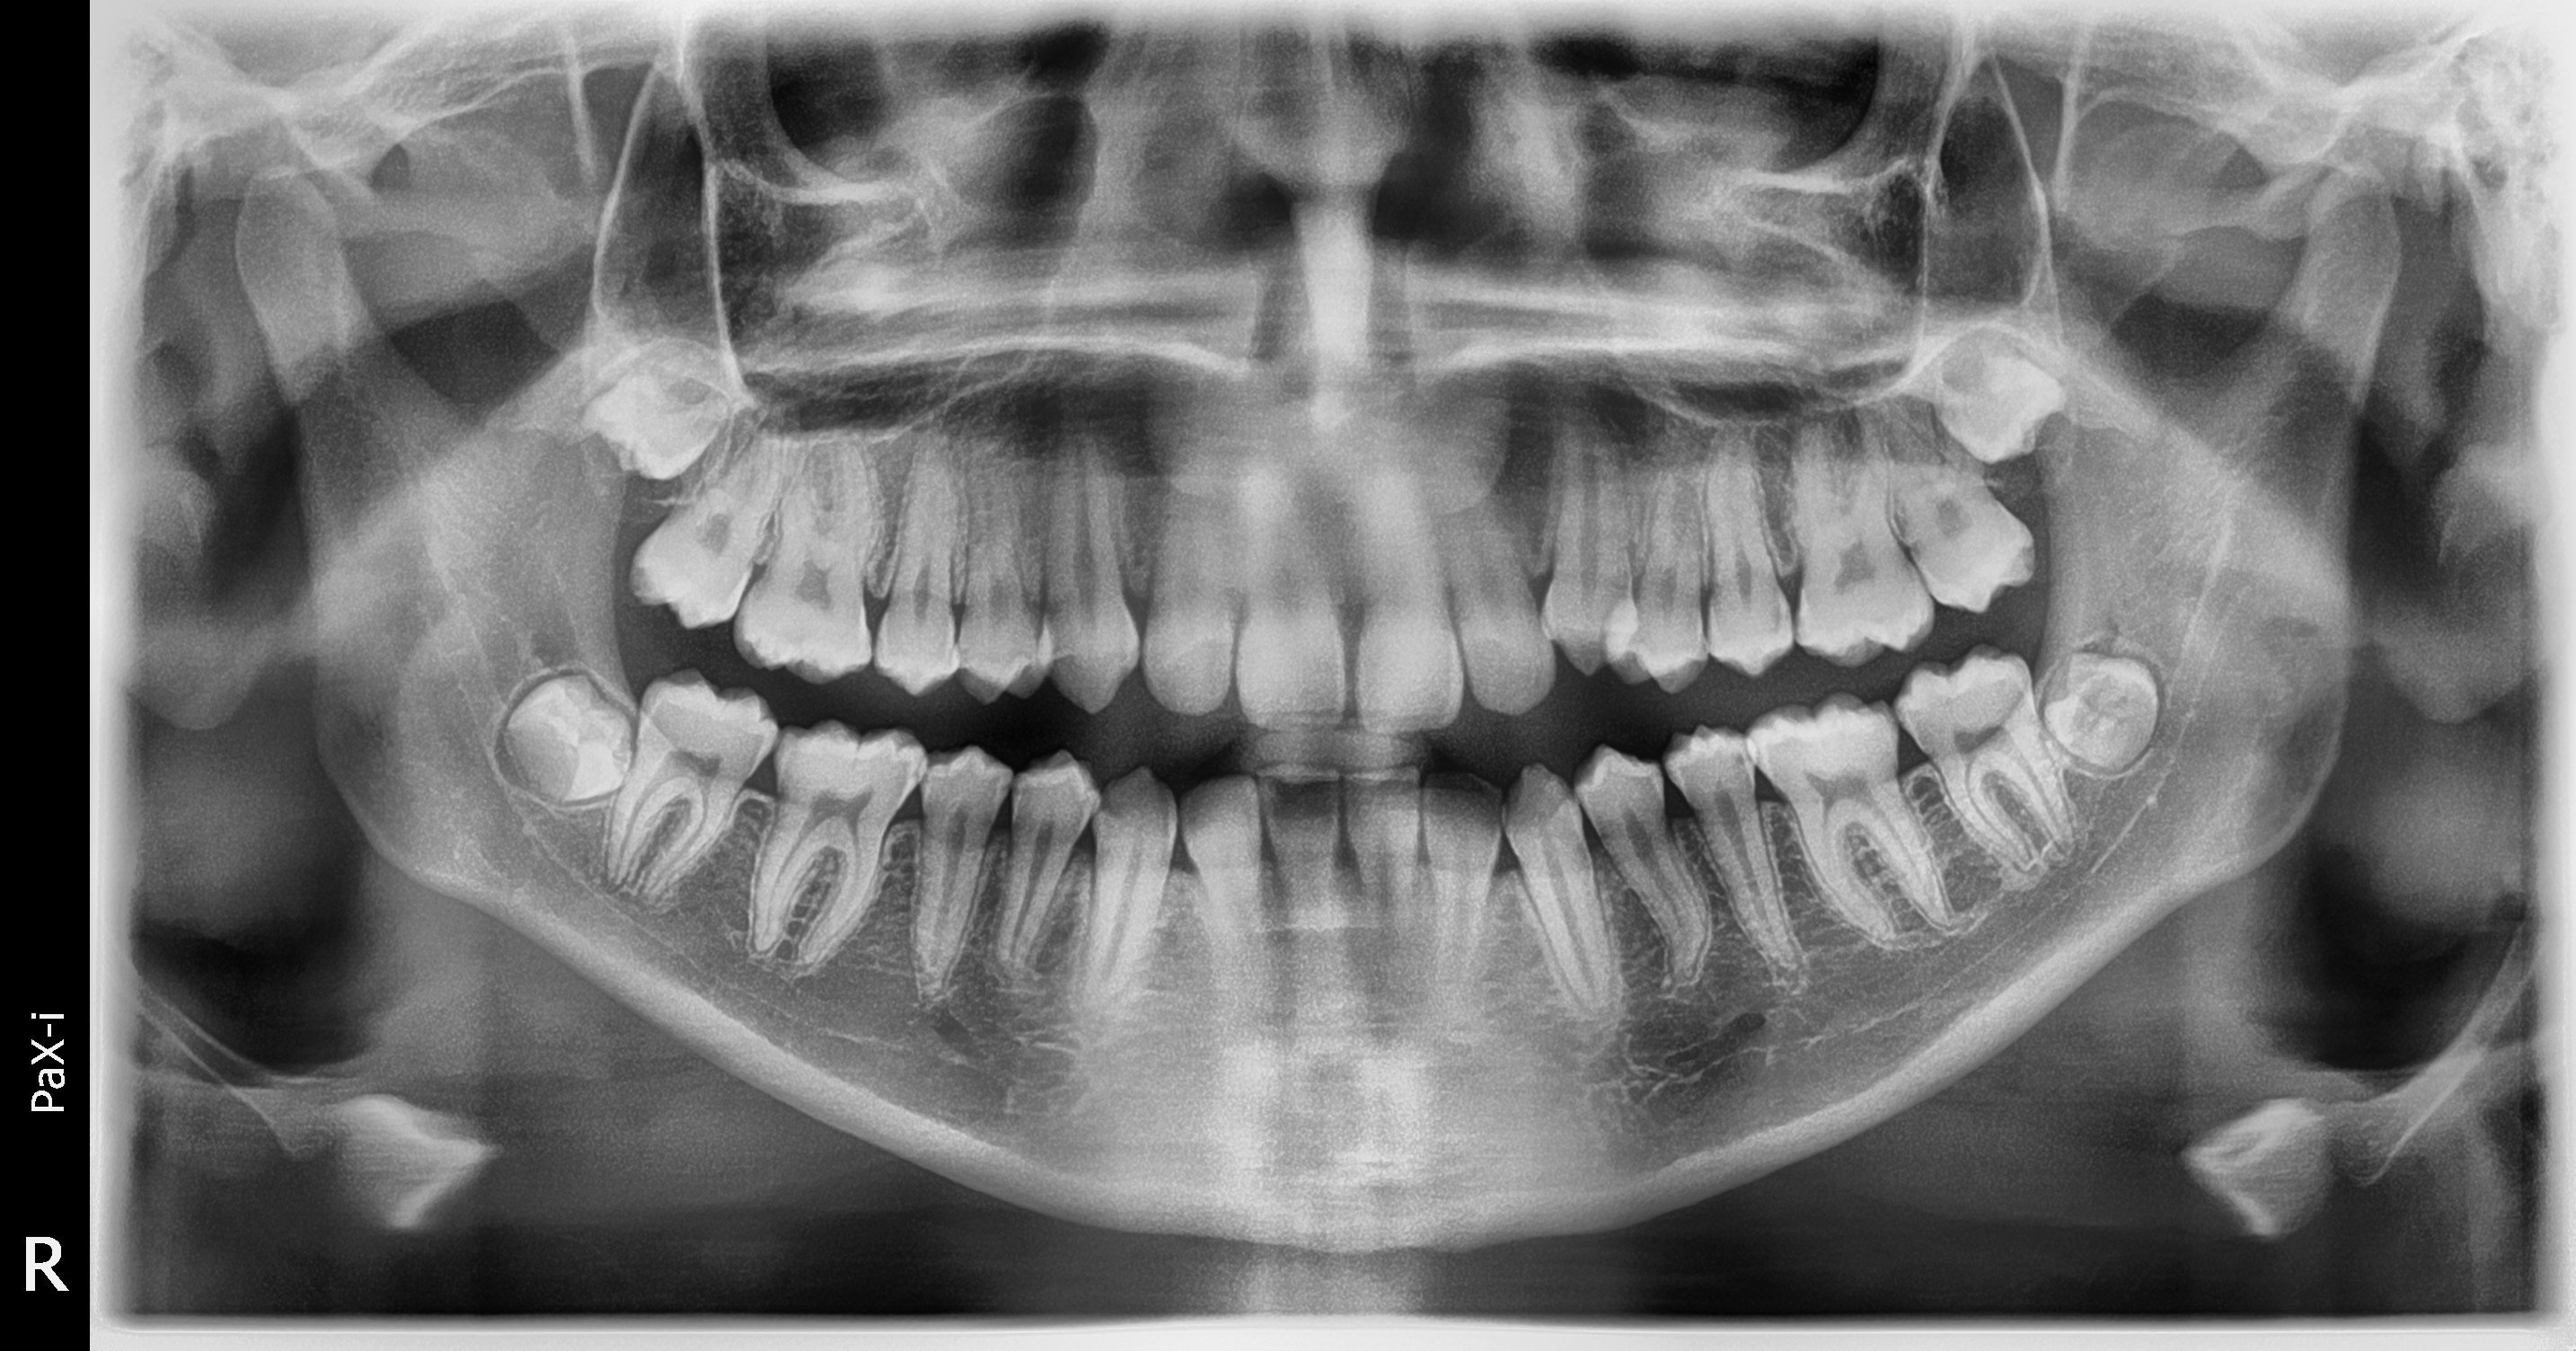CAR: (864, 370, 2576, 1133)
IMT: (213, 102, 944, 583)
